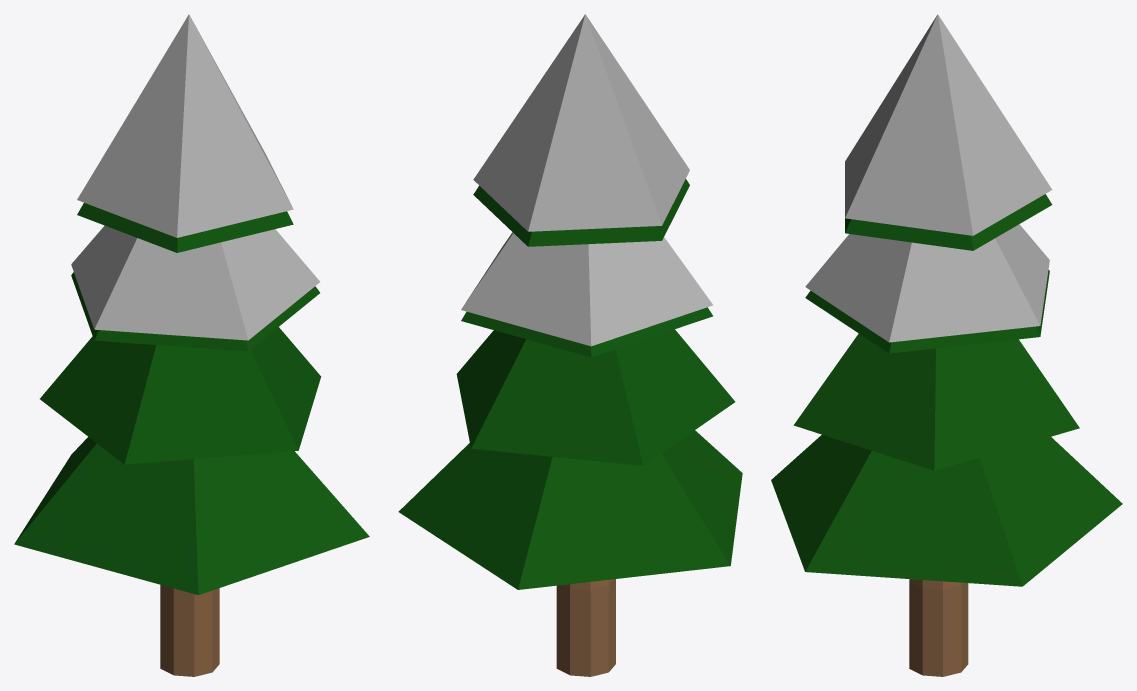
Rendered from Fir_5 Winter.fbx.
3 renders of one model, left to right at view 1: azimuth 30°, elevation 25°; view 2: azimuth 150°, elevation 25°; view 3: azimuth 270°, elevation 25°, orthographic.
Visible parts, largest first — view 1: Fir5Winter_mesh; view 2: Fir5Winter_mesh; view 3: Fir5Winter_mesh.
Boxes of the visible parts, x1,y1,x2,y2 form: Fir5Winter_mesh: [14, 14, 369, 676]; Fir5Winter_mesh: [398, 14, 742, 676]; Fir5Winter_mesh: [771, 14, 1122, 676].
Bounding box in the file's own units: 215 × 438 × 215.
